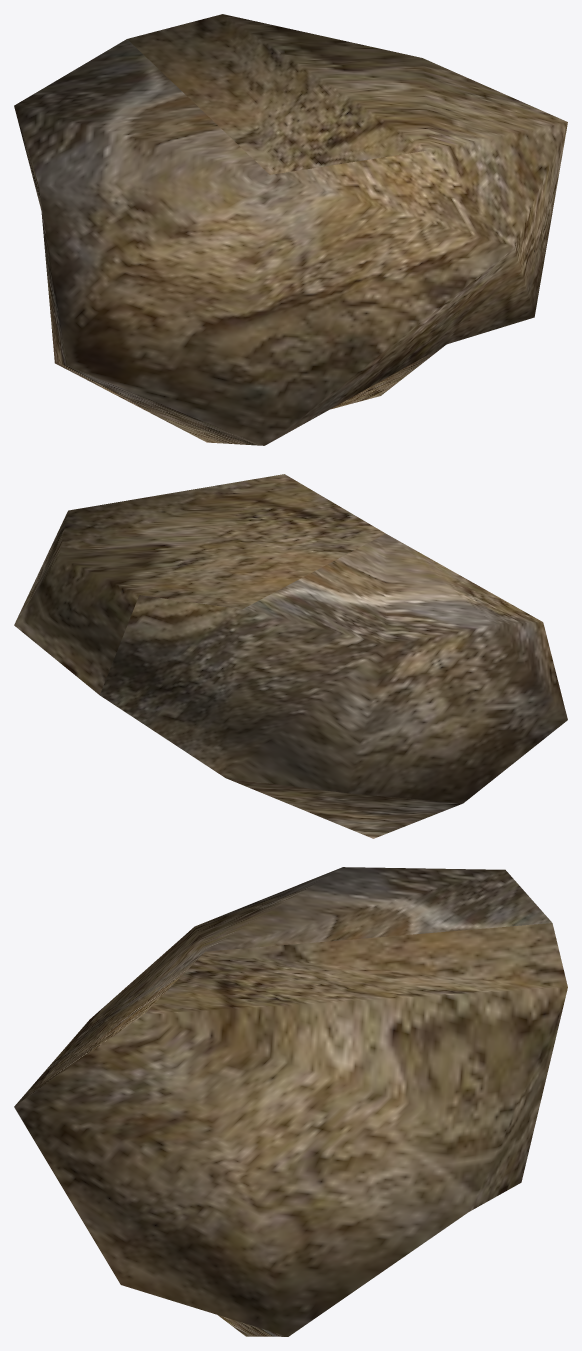
The model's file is pedrinha.FBX.
3 renders of one model, top to bottom at view 1: azimuth 30°, elevation 25°; view 2: azimuth 150°, elevation 25°; view 3: azimuth 270°, elevation 25°, orthographic. The views are drawn at different scales.
Visible parts, largest first — view 1: Plane01; view 2: Plane01; view 3: Plane01.
Boxes of the visible parts, <box> form: Plane01: <box>14,14,567,445</box>; Plane01: <box>14,474,567,838</box>; Plane01: <box>14,867,567,1336</box>.
Size of the model in its own units: 25.86 by 15.17 by 20.5.
